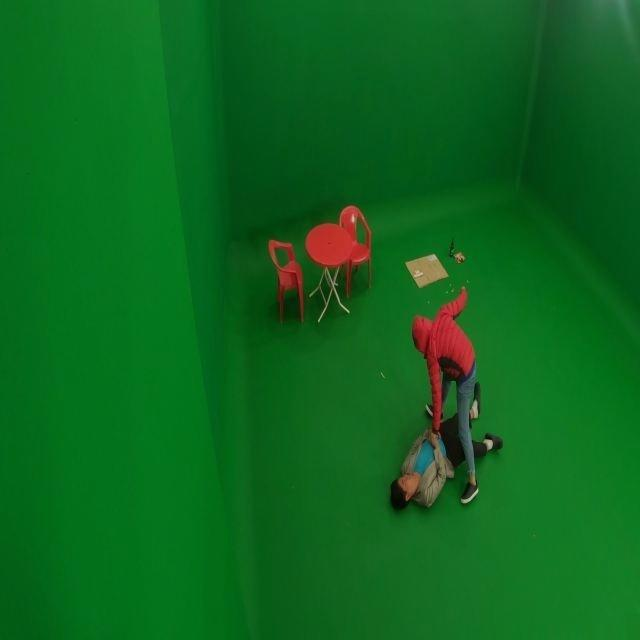fight: (382, 280, 497, 513)
